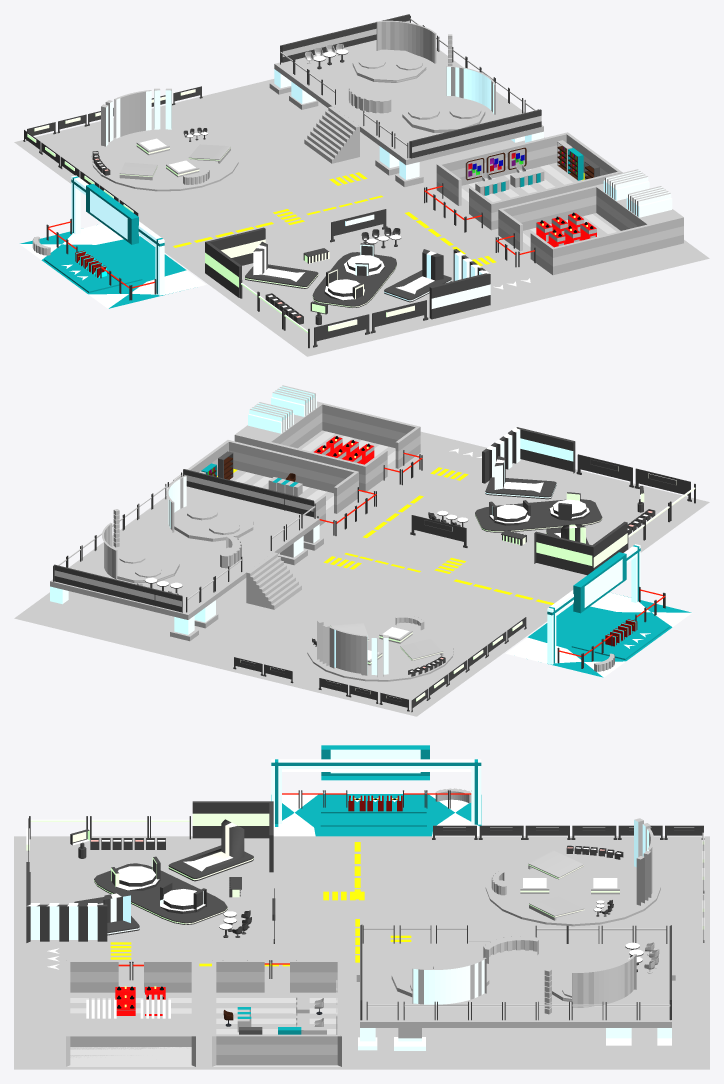
File: Level (03).fbx
3 renders of one model, top to bottom at view 1: azimuth 30°, elevation 25°; view 2: azimuth 150°, elevation 25°; view 3: azimuth 270°, elevation 25°, orthographic. The views are drawn at different scales.
Visible parts, largest first — view 1: Plane, Plane.009, Plane.006, Plane.002, Cube.138, Plane.001, Cube.139, Cylinder.007, Cube.019, Cube.060, Cube.048, Cube.020 (+21 smaller); view 2: Plane, Plane.009, Plane.006, Plane.002, Cube.138, Plane.001, Cube.139, Cylinder.007, Cube.019, Cube.020, Cube.060, Cube.051 (+20 smaller); view 3: Plane, Plane.009, Plane.002, Plane.006, Cube.139, Cube.138, Plane.001, Cylinder.007, Cube.009, Cube.019, Cube.020, Cube.095 (+20 smaller).
Part boxes in pixels (bbox=[...]): Plane: bbox=[14, 79, 709, 356]; Plane.009: bbox=[269, 40, 543, 187]; Plane.006: bbox=[21, 98, 317, 224]; Plane.002: bbox=[198, 224, 499, 351]; Cube.138: bbox=[498, 183, 683, 275]; Plane.001: bbox=[20, 223, 206, 308]; Cube.139: bbox=[436, 132, 622, 230]; Cylinder.007: bbox=[91, 127, 238, 191]; Cube.019: bbox=[429, 249, 490, 319]; Cube.060: bbox=[101, 88, 171, 146]; Cube.048: bbox=[409, 109, 541, 158]; Cube.020: bbox=[205, 227, 265, 297]; Plane: bbox=[14, 431, 709, 716]; Plane.009: bbox=[50, 486, 323, 641]; Plane.006: bbox=[233, 585, 528, 713]; Plane.002: bbox=[401, 459, 702, 579]; Cube.138: bbox=[234, 401, 420, 492]; Plane.001: bbox=[505, 592, 692, 677]; Cube.139: bbox=[173, 440, 358, 525]; Cylinder.007: bbox=[307, 618, 453, 681]; Cube.019: bbox=[482, 427, 575, 483]; Cube.020: bbox=[534, 521, 627, 575]; Cube.060: bbox=[317, 620, 388, 677]; Cube.051: bbox=[53, 564, 182, 612]; Plane: bbox=[14, 836, 709, 1069]; Plane.009: bbox=[356, 942, 675, 1050]; Plane.002: bbox=[20, 836, 282, 947]; Plane.006: bbox=[431, 839, 705, 943]; Cube.139: bbox=[212, 960, 341, 1066]; Cube.138: bbox=[66, 960, 195, 1066]; Plane.001: bbox=[271, 794, 481, 836]; Cylinder.007: bbox=[485, 850, 660, 926]; Cube.009: bbox=[271, 759, 481, 826]; Cube.019: bbox=[26, 872, 107, 942]; Cube.020: bbox=[192, 801, 273, 872]; Cube.095: bbox=[412, 957, 486, 1005].
Bounding box in the file's own units: 21354 × 3157 × 21967.
